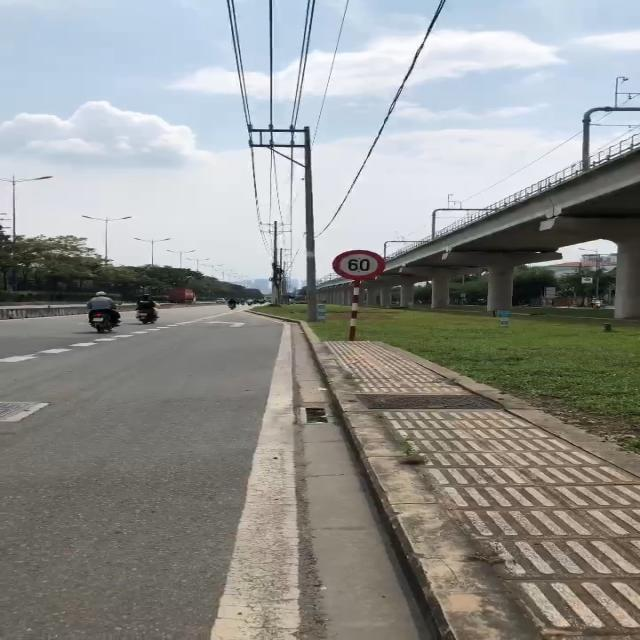Bien bao toc do toi da cho phep: (329, 242, 387, 282)
